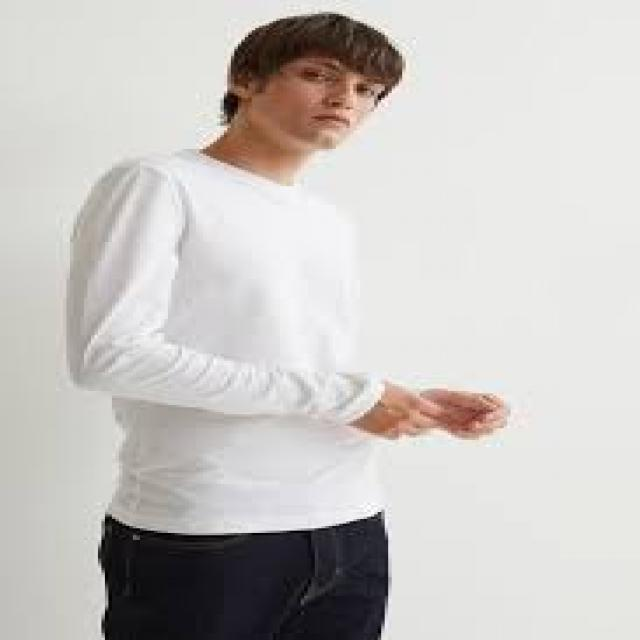plain: (63, 140, 401, 542)
